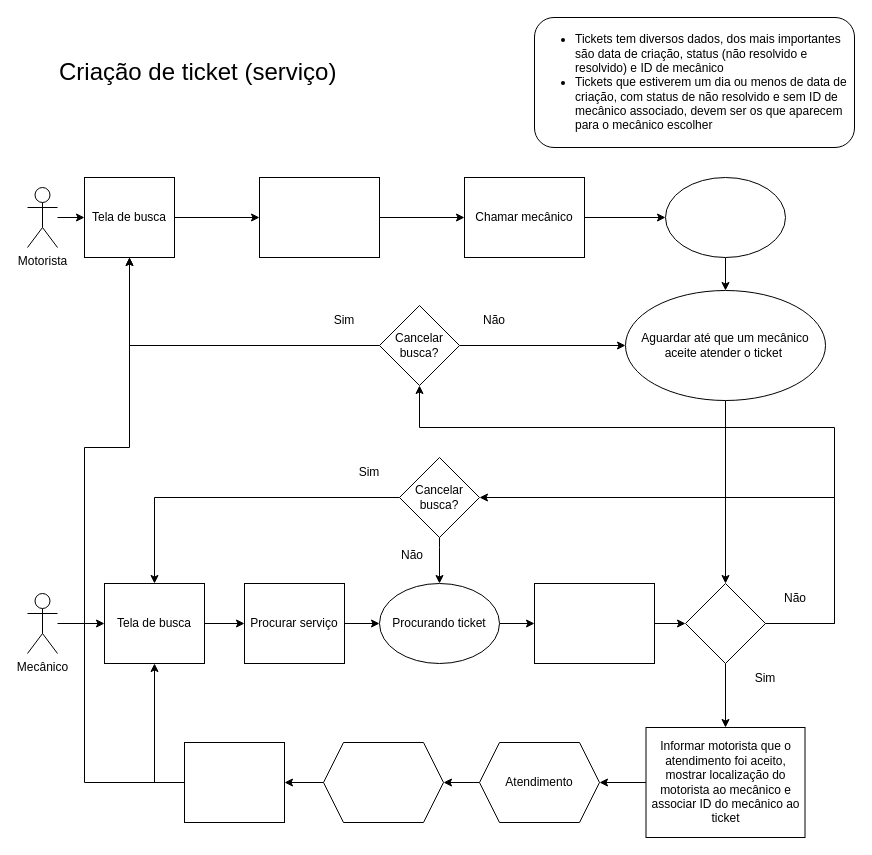
Image size: 872x855. Some labels were removed from this diagram. Each missing label, with the centre of its shape:
"Aceitar ticket?" belongs at (x=725, y=623).
"Analisar detalhes do ticket" belongs at (x=594, y=623).
"Avaliação do ticket" belongs at (x=234, y=782).
"Criação de ticket" belongs at (x=725, y=217).
"Pagamento" belongs at (x=383, y=782).
"Preencher dados do ticket" belongs at (x=319, y=217).
